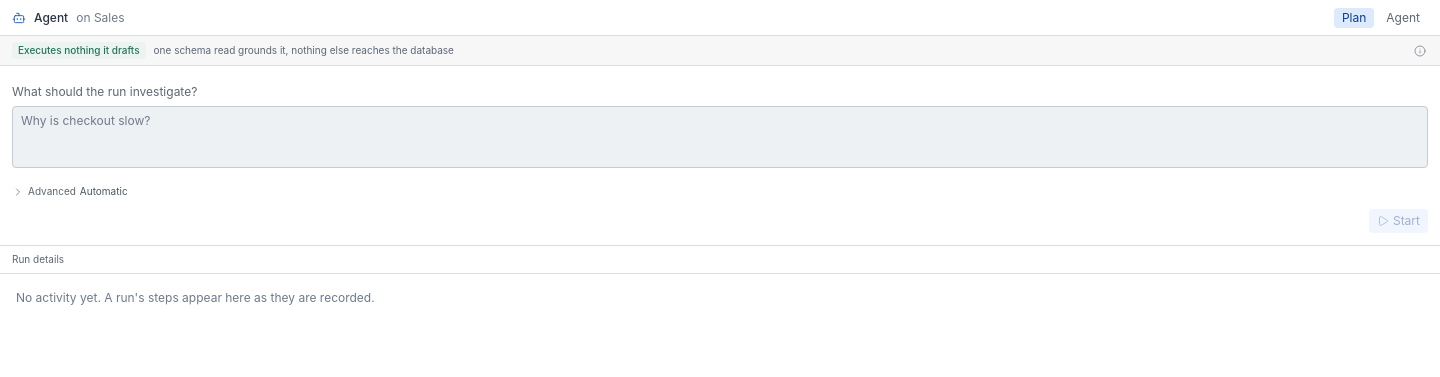
Test: AgentRail › a unavailable conversation renders its own sentence
Type "chart those" into the text box with test id "agent-objective" at (720, 137), box 12,106 -> 1428,168
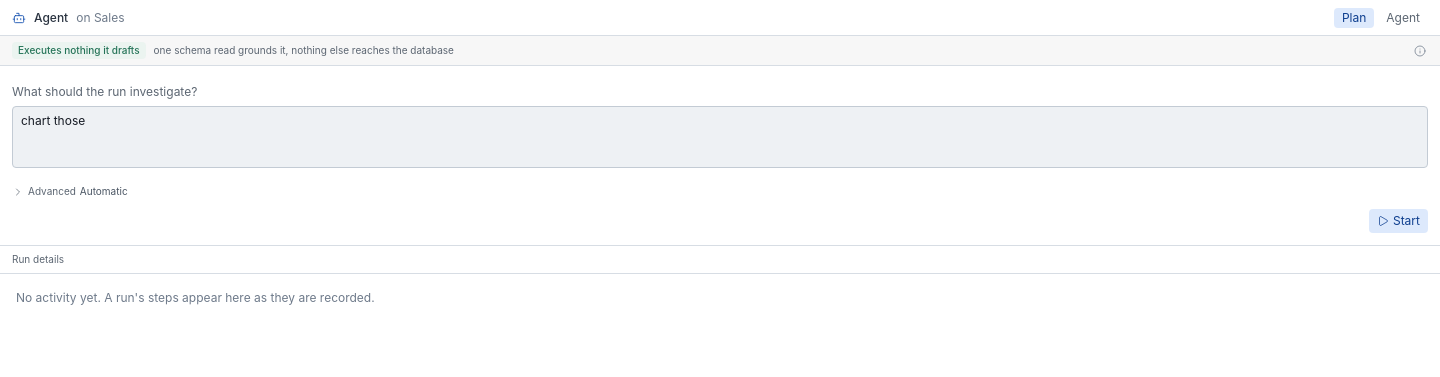
Click the button with test id "agent-start" at (1398, 221), box 1369,209 -> 1428,233
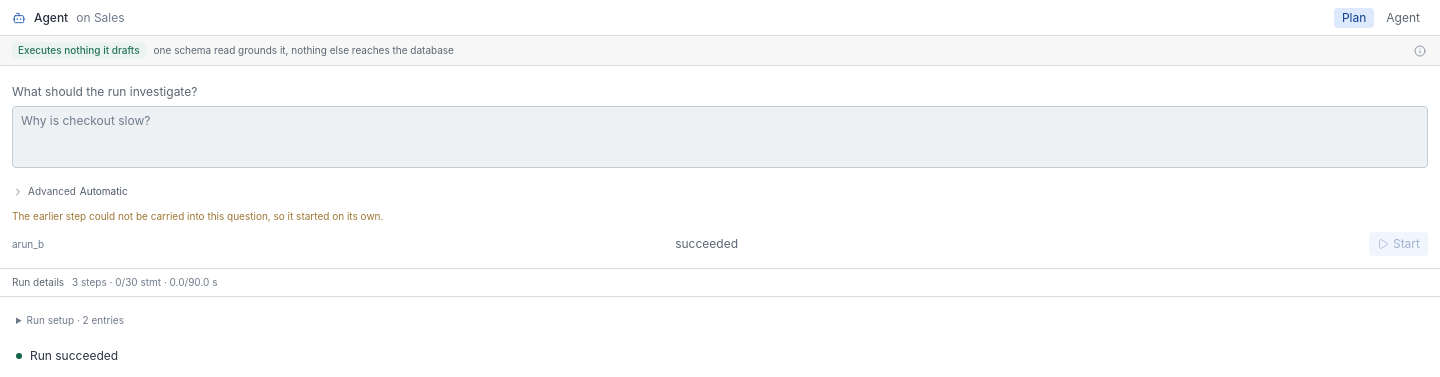
Check: the text with test id "agent-thread-notice" shows "The earlier step could not be carried into this question, so it started on its own.", box 12,210 -> 383,222
